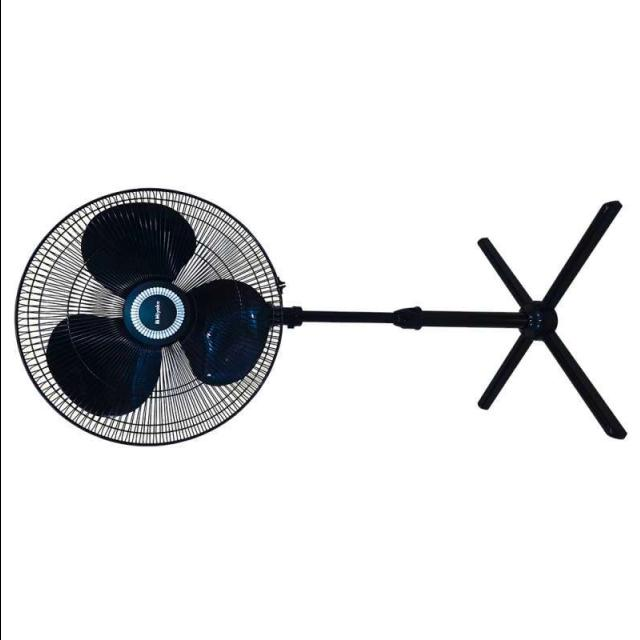fan: (8, 182, 630, 456)
